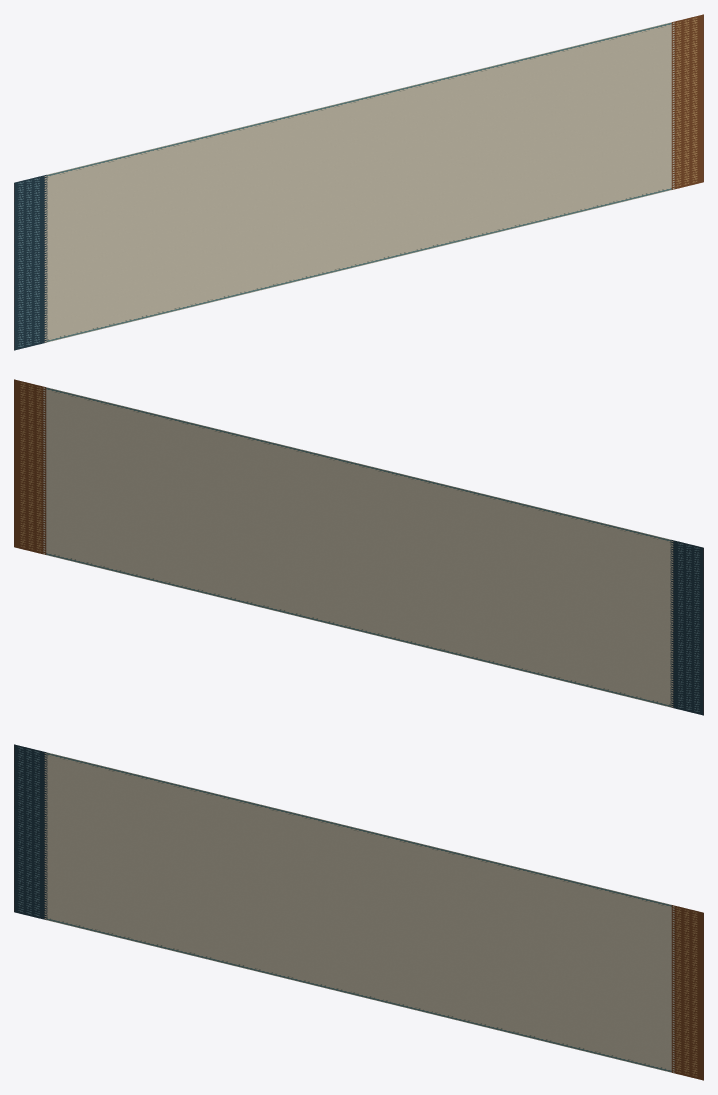
File: cotton.obj
The picture shows the model from 3 angles, top to bottom: view 1: azimuth 30°, elevation 25°; view 2: azimuth 150°, elevation 25°; view 3: azimuth 330°, elevation 25°; orthographic projection.
Size of the model in its own units: 0.86 by 0.2 by 0.
Materials: 1 (1 with a texture image).
